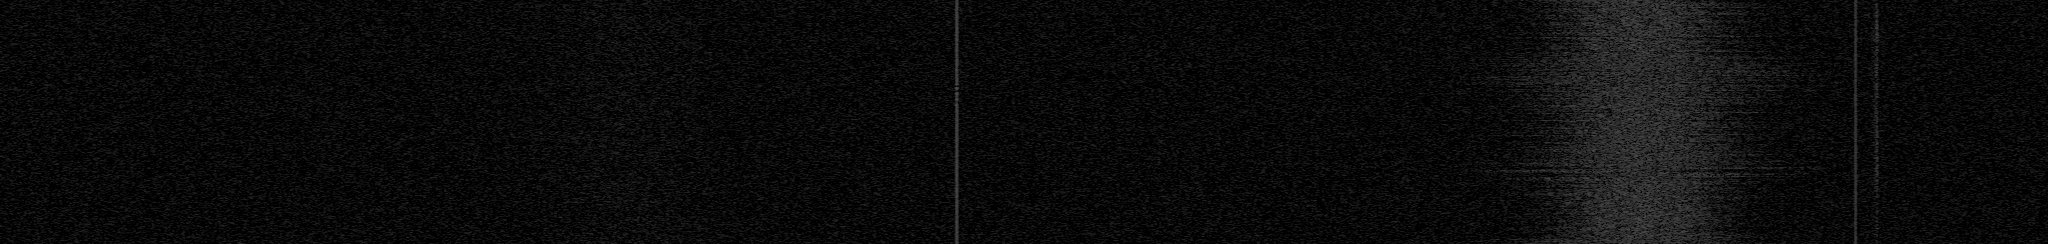wv_am: (953, 0, 960, 244)
wv_cw: (1853, 0, 1859, 244)
wv_lsb: (1870, 3, 1880, 244)
wv_wbfm: (1438, 0, 1839, 244), (515, 0, 744, 244)
